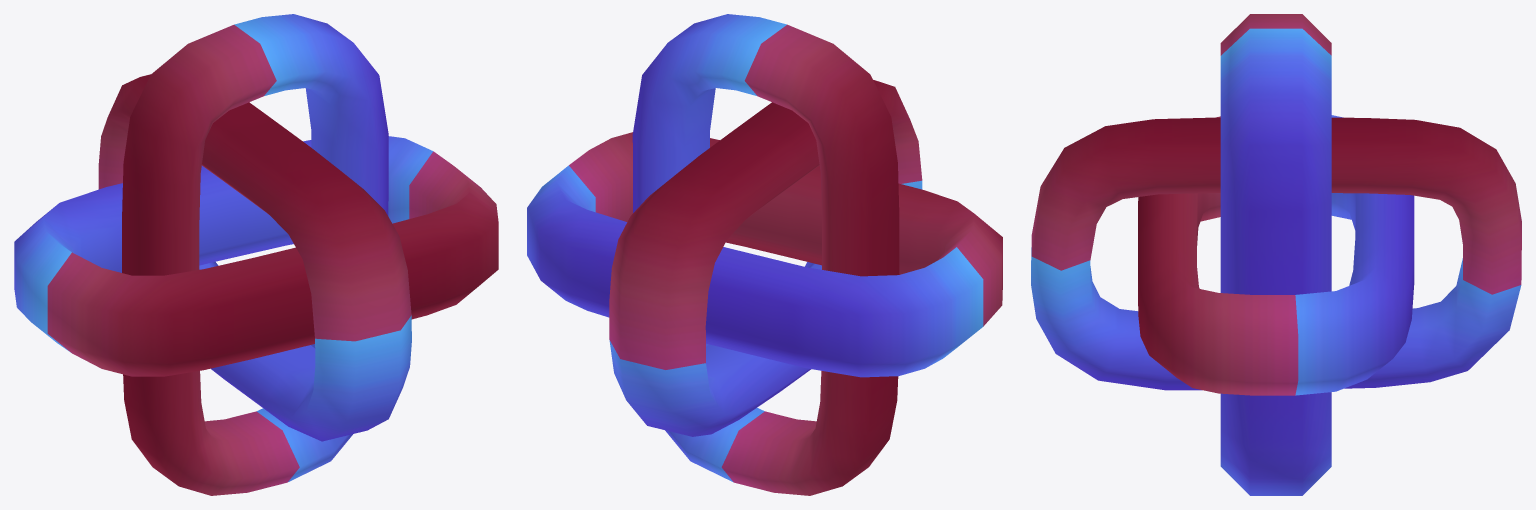
The model's file is repulse.glb.
The picture shows the model from 3 angles, left to right: view 1: azimuth 30°, elevation 25°; view 2: azimuth 150°, elevation 25°; view 3: azimuth 270°, elevation 25°; orthographic projection.
Visible parts, largest first — view 1: NurbsPath.001, NurbsPath.002, NurbsPath; view 2: NurbsPath.001, NurbsPath.002, NurbsPath; view 3: NurbsPath, NurbsPath.002, NurbsPath.001.
Part boxes in pixels (x1,y1,x2,y2): NurbsPath.001: (14, 136, 498, 376); NurbsPath.002: (122, 14, 388, 495); NurbsPath: (98, 74, 411, 441); NurbsPath.001: (527, 132, 1002, 377); NurbsPath.002: (632, 14, 899, 495); NurbsPath: (609, 80, 922, 436); NurbsPath: (1031, 117, 1521, 390); NurbsPath.002: (1220, 14, 1331, 495); NurbsPath.001: (1138, 115, 1414, 395).
Size of the model in its own units: 4.51 by 4.51 by 4.51.
1 material, 1 textured.
